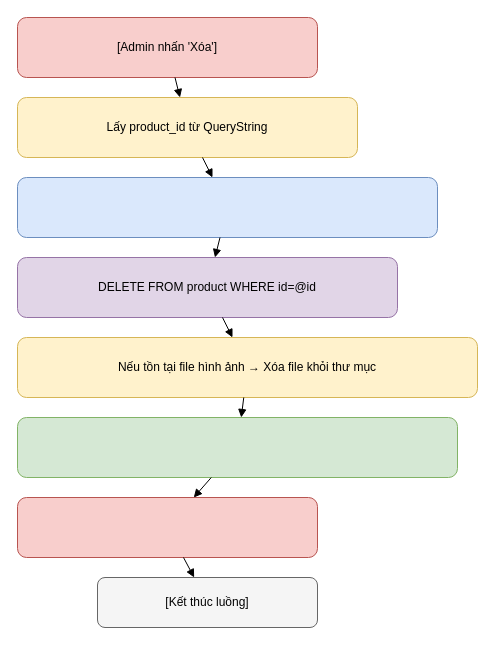
Some shapes in this 495 by 645 pixel diagram are drawn without their labels. The centre of each missing label's shape, as x and y in pixels:
"Redirect về Product.aspx" goes at point (167, 527).
"SELECT image_url FROM product WHERE id=@id" goes at point (227, 207).
"Session['ToastMessage'] = 'Xóa sản phẩm thành công'" goes at point (237, 447).
